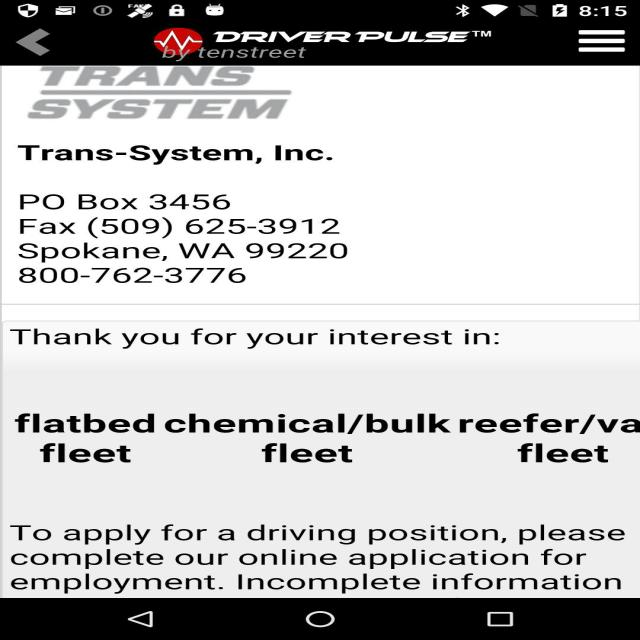icon: (566, 24, 640, 56), (0, 23, 66, 55)
image: (1, 20, 640, 60), (0, 63, 299, 124), (157, 28, 483, 59)
text: (5, 397, 640, 488), (7, 514, 631, 596), (7, 184, 445, 298), (0, 320, 500, 363), (16, 131, 356, 169)
